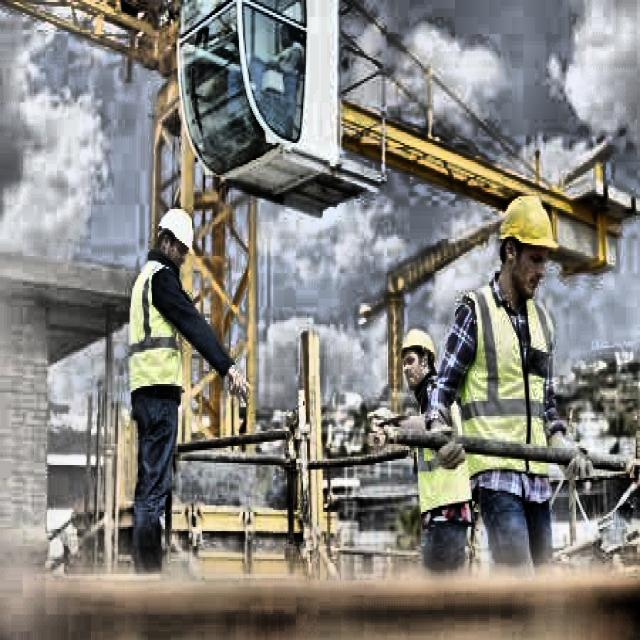helmet: (493, 190, 562, 299), (396, 320, 440, 388), (152, 202, 196, 268)
